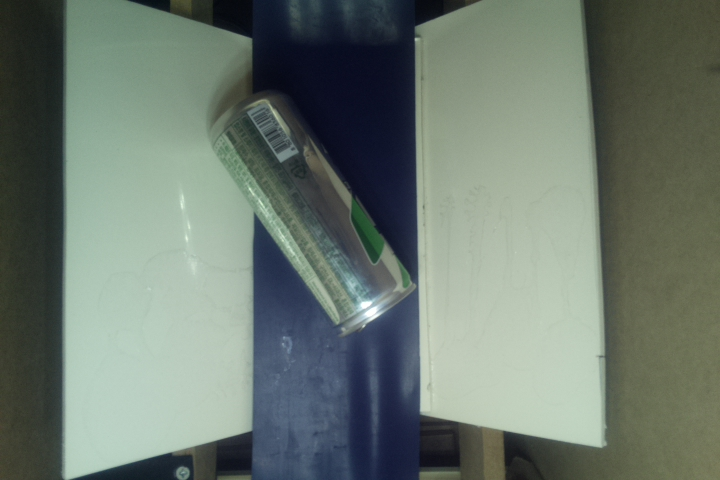can: (210, 91, 416, 337)
